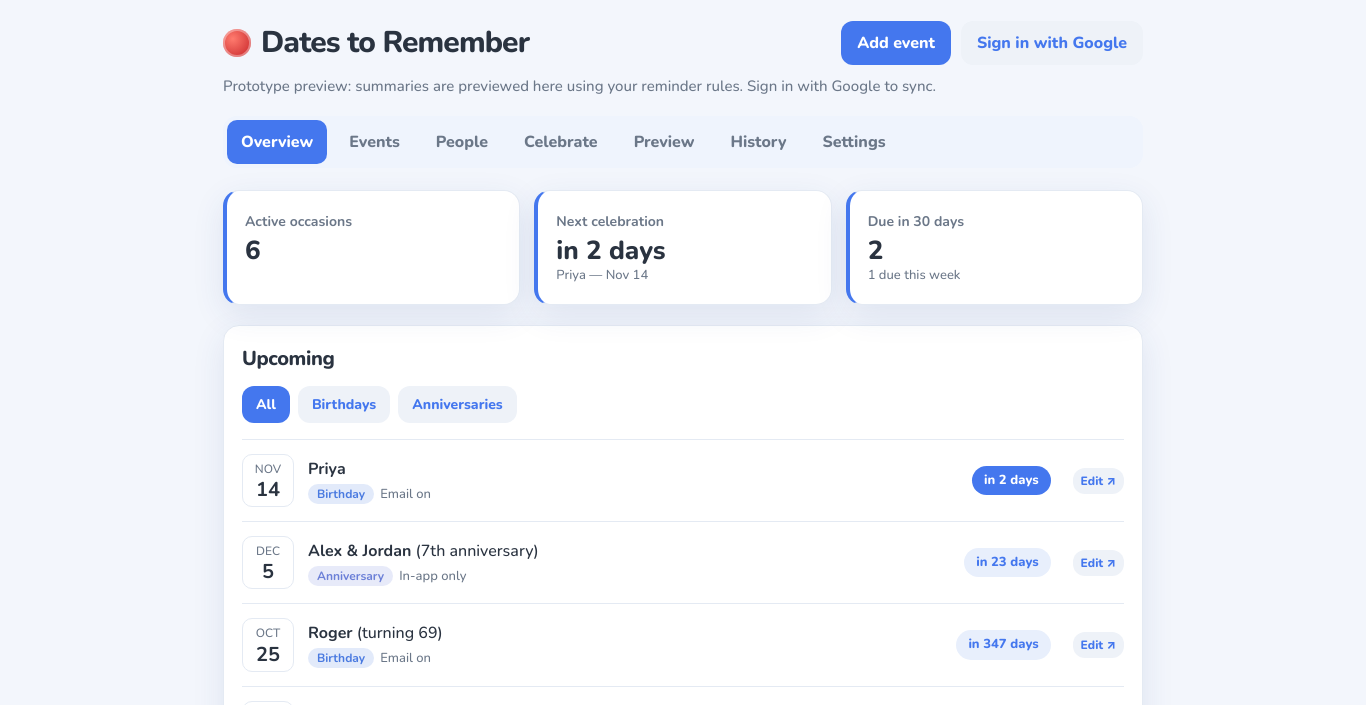
Dashboard UI Component › opens celebrate hub and can reserve from a celebration wishlist
Click the button "Celebrate" at (561, 142), box left=510, top=120, right=612, bottom=164
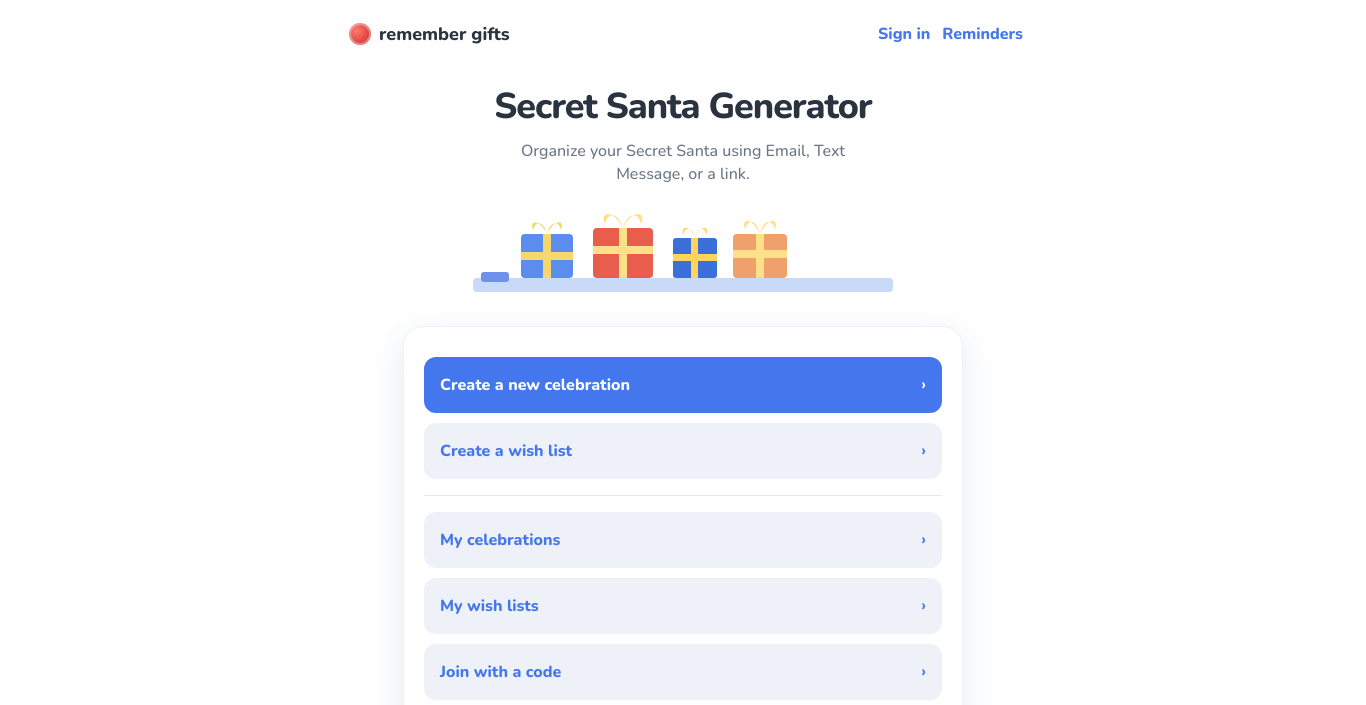
Expected: the heading "Secret Santa Generator" is shown, left=494, top=80, right=872, bottom=134
Click the button "My celebrations ›" at (500, 540), box left=424, top=512, right=942, bottom=568
(page scrolled)
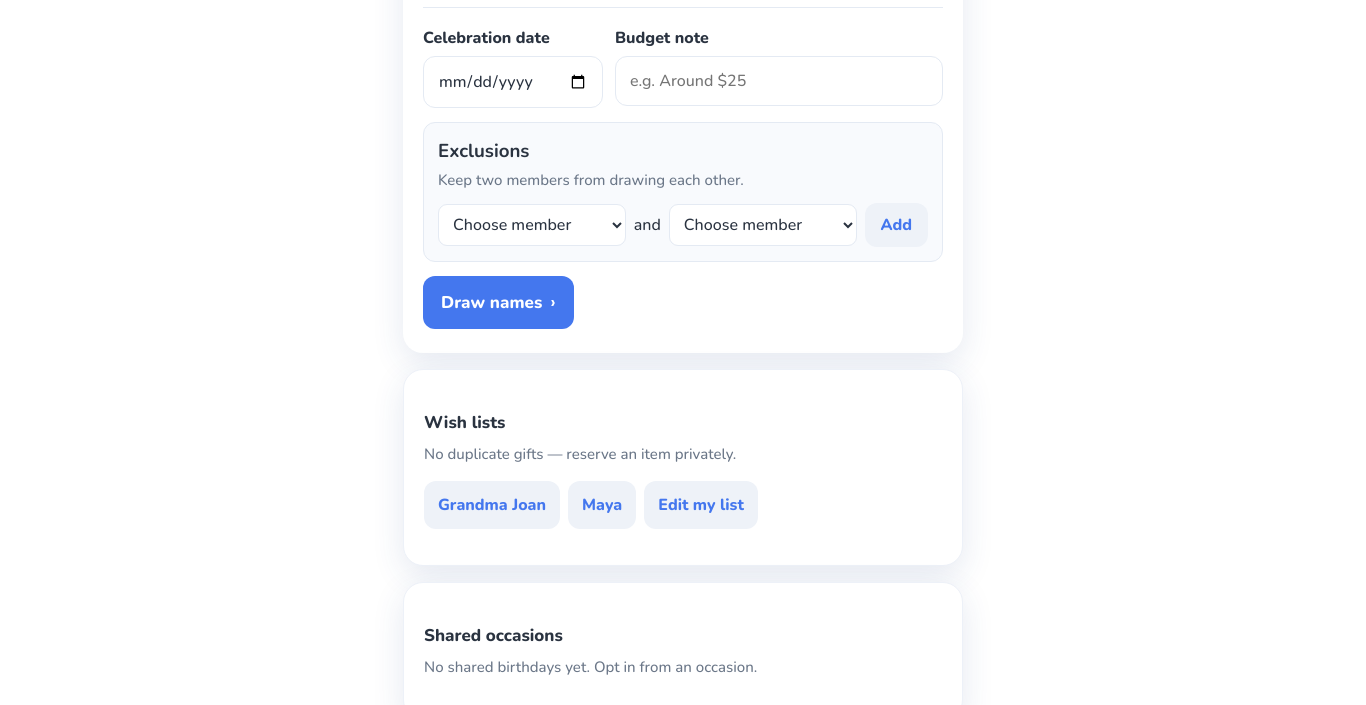
Click the button "Grandma Joan" at (492, 505), box left=424, top=481, right=560, bottom=529
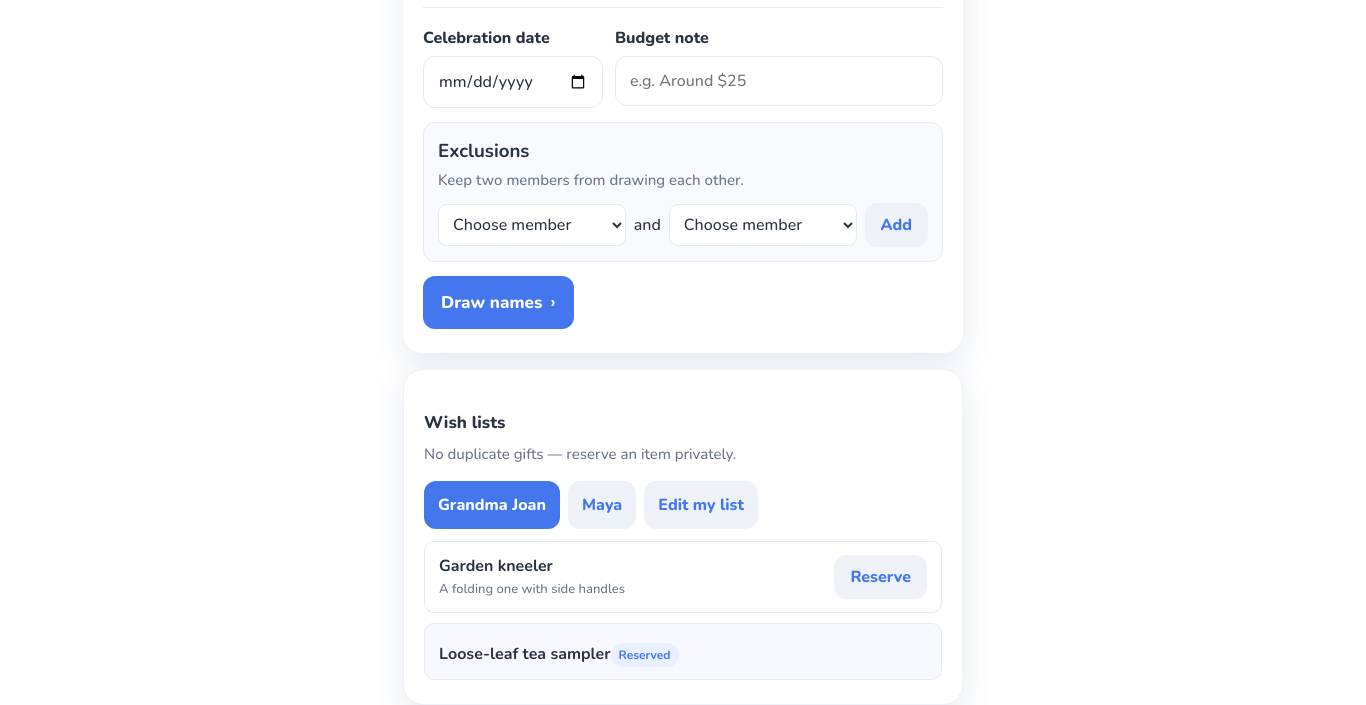
Click the button with aria-label "Reserve Garden kneeler" at (881, 577), box left=834, top=555, right=927, bottom=599
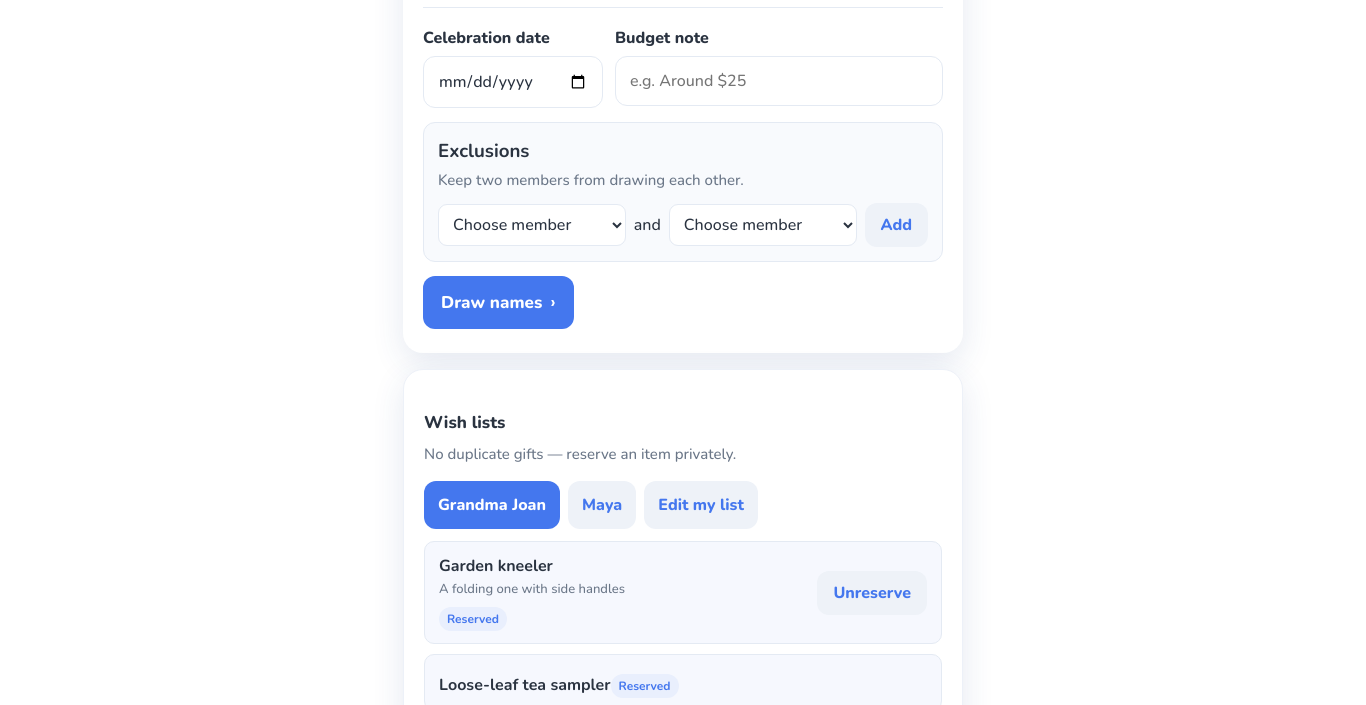
Expected: the button with aria-label "Unreserve Garden kneeler" is shown, left=817, top=570, right=927, bottom=614
